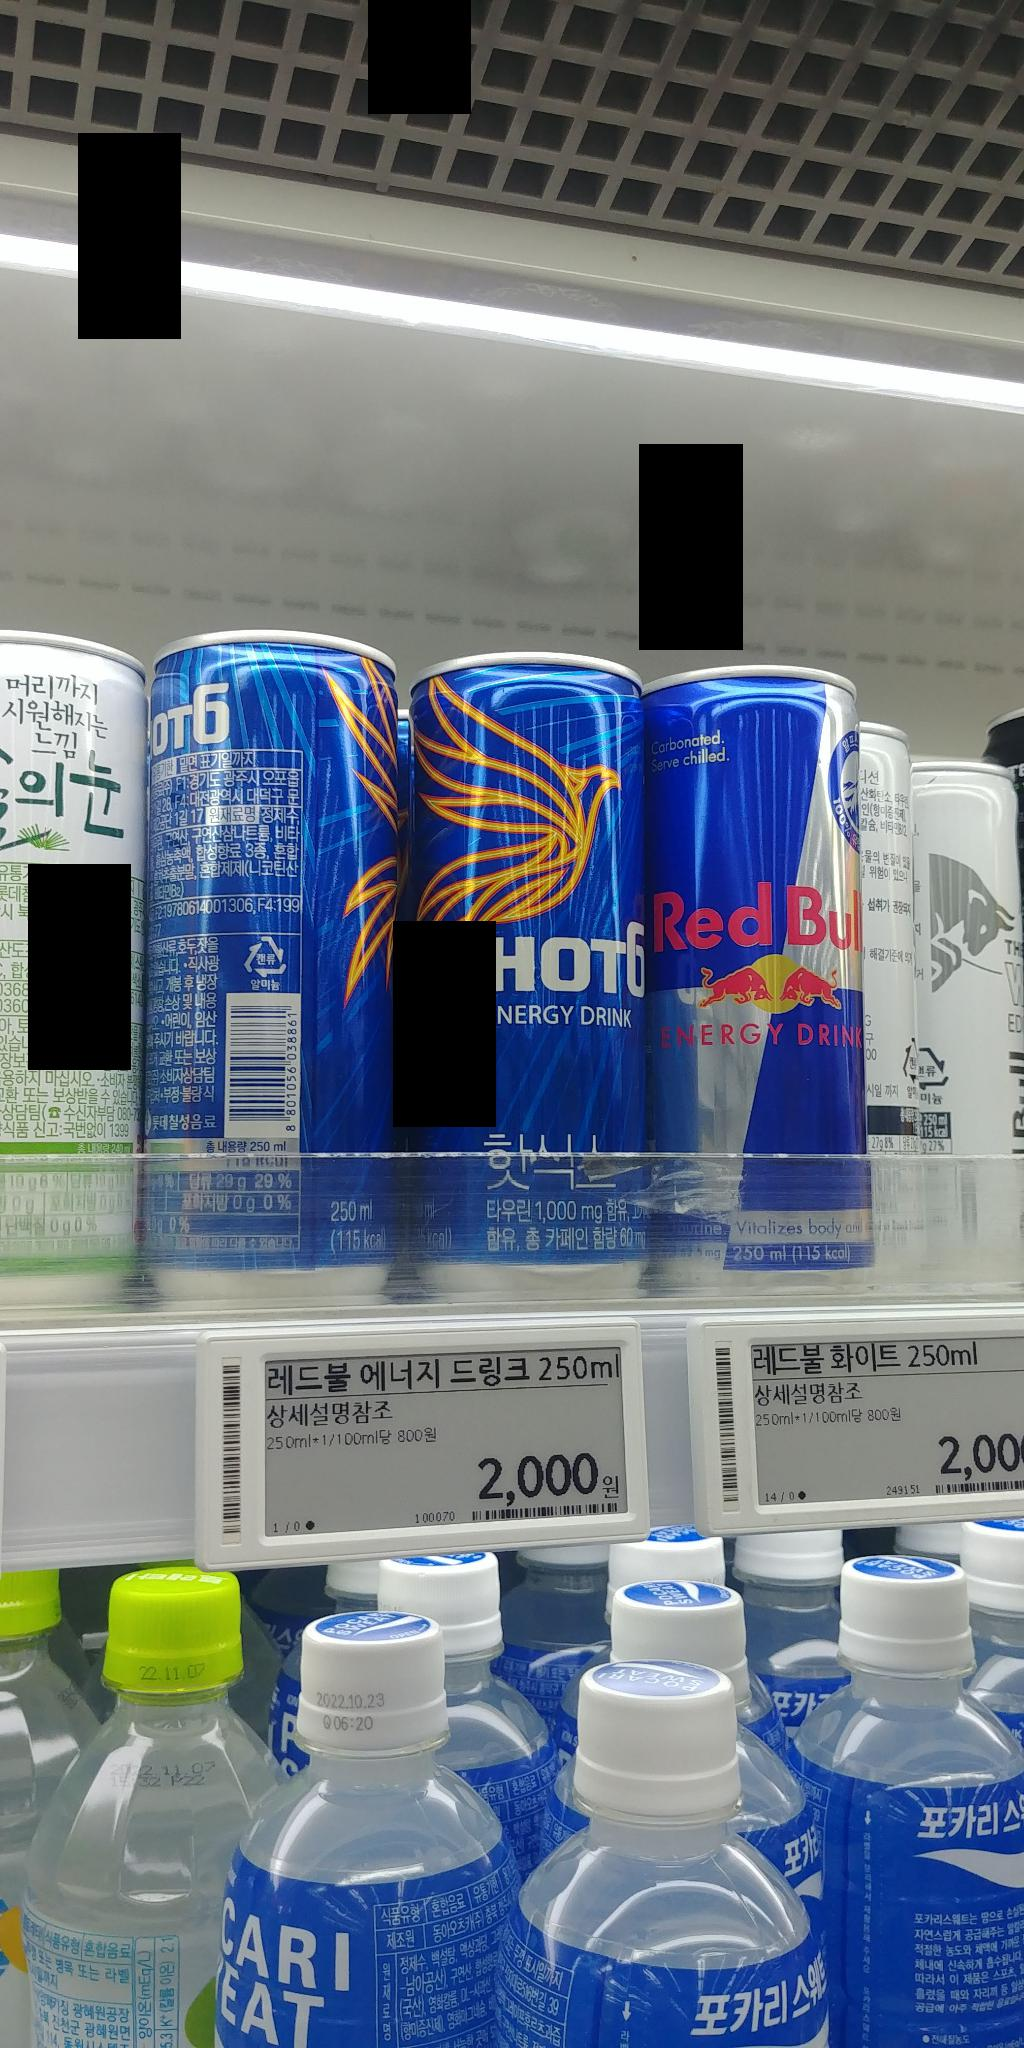hotsix_org: (129, 632, 423, 1314), (391, 624, 652, 1292)
